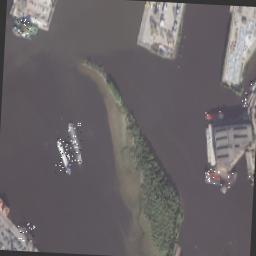boat: (66, 122, 82, 163), (54, 138, 72, 173), (13, 16, 38, 34), (17, 223, 35, 242), (220, 171, 236, 192), (12, 25, 33, 38), (204, 168, 220, 180), (205, 109, 223, 119), (204, 175, 219, 184), (241, 91, 248, 106), (246, 173, 254, 177), (249, 80, 253, 88), (22, 225, 28, 230)
